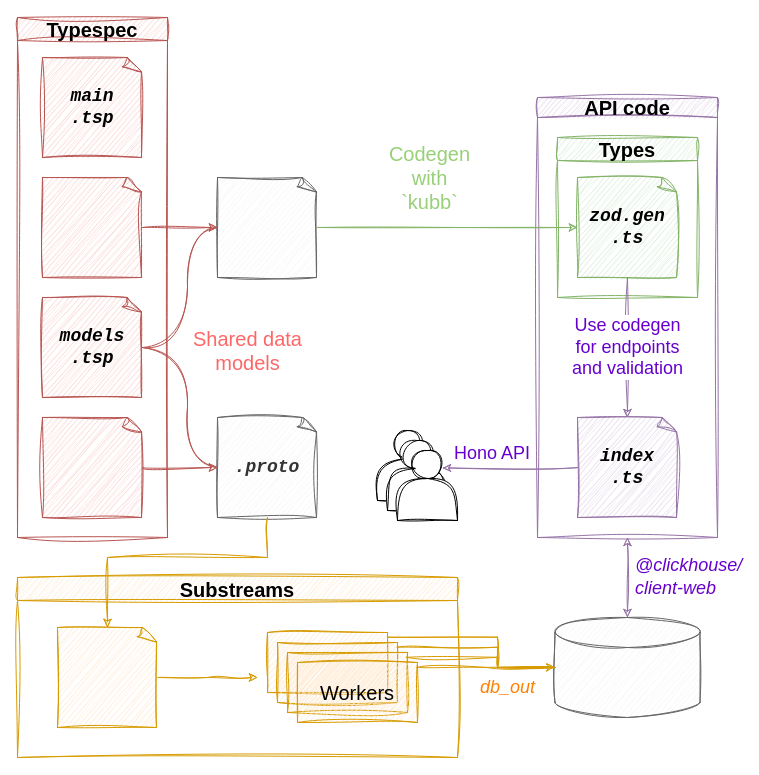
This 759x775 diagram has some shape labels left out. Here are the shapes that lost their labels. From the top down, the centre of each, then its label:
(x=92, y=227): openapi3 .tsp
(x=267, y=227): openapi .json
(x=92, y=467): protobuf .tsp
(x=107, y=677): .spkg
(x=627, y=667): ClickHouse
